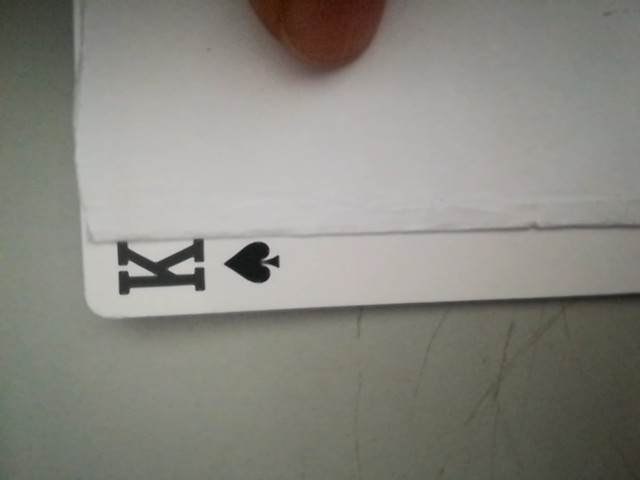ht k: (90, 229, 286, 309)
